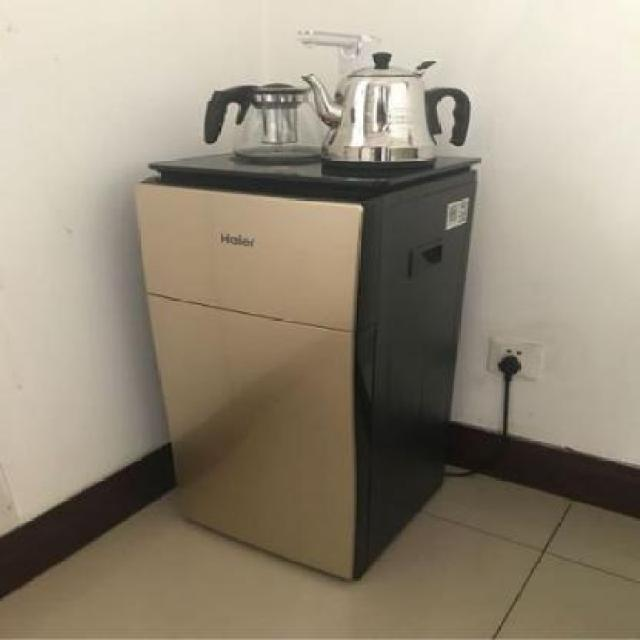cooler: (134, 32, 478, 581)
